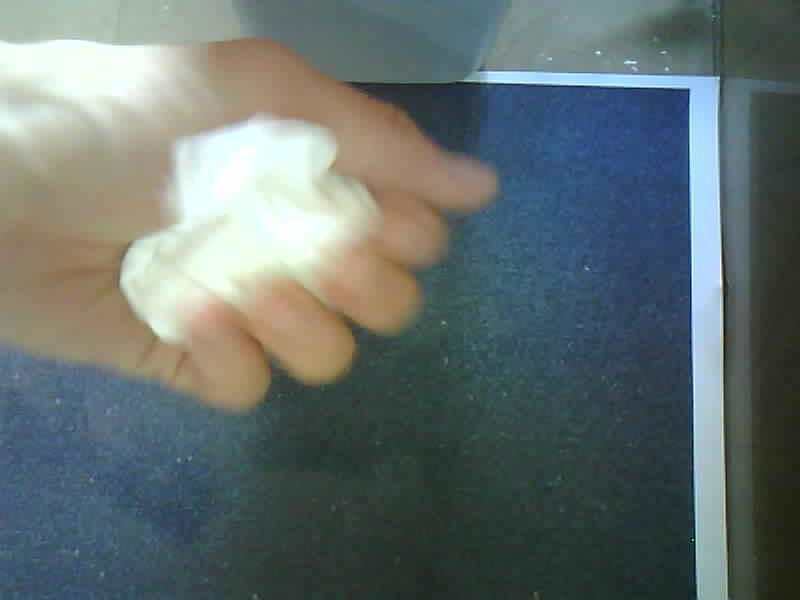paper: (120, 119, 380, 342)
